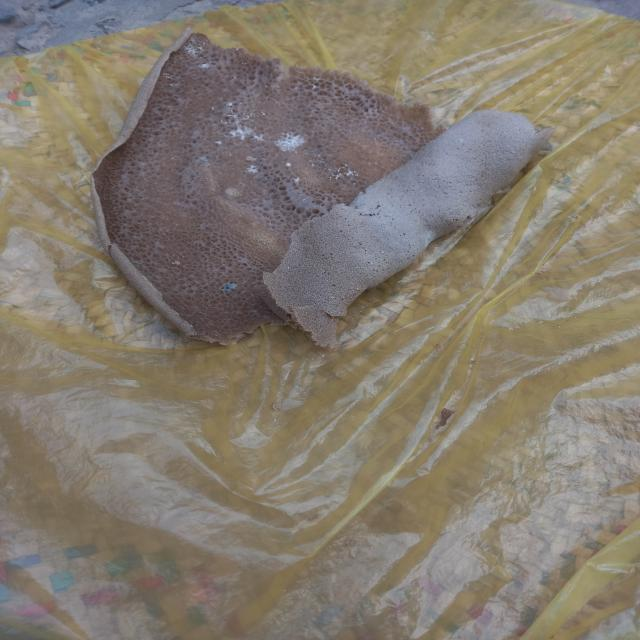injera_mold: (222, 120, 265, 144), (272, 129, 308, 152), (214, 277, 249, 295), (326, 164, 358, 180), (183, 38, 201, 56), (198, 155, 212, 168), (225, 102, 236, 118), (242, 112, 269, 118), (172, 254, 185, 265), (198, 62, 213, 71), (248, 166, 261, 176), (309, 78, 320, 89), (163, 72, 175, 80), (214, 140, 223, 148), (425, 236, 433, 245), (317, 154, 324, 164), (285, 161, 294, 168), (209, 105, 217, 112), (293, 176, 301, 182), (310, 160, 316, 168), (168, 83, 180, 87), (230, 75, 238, 81), (330, 310, 342, 314), (456, 138, 462, 144), (264, 163, 271, 168), (240, 61, 248, 65), (286, 266, 292, 271), (252, 310, 258, 315), (302, 197, 306, 204), (202, 41, 206, 48), (331, 295, 336, 300), (369, 261, 374, 266), (170, 156, 176, 160), (343, 291, 346, 299), (276, 184, 280, 190), (238, 101, 244, 105), (234, 48, 241, 51), (264, 84, 268, 89), (409, 154, 414, 158), (236, 311, 242, 314), (205, 176, 209, 180), (294, 85, 297, 90), (350, 282, 355, 285), (316, 189, 321, 192), (310, 294, 315, 297), (381, 251, 385, 254), (374, 162, 378, 165), (354, 140, 357, 144), (249, 181, 253, 184), (317, 310, 320, 314), (341, 147, 344, 150), (352, 183, 356, 185), (356, 288, 359, 290), (318, 303, 320, 305), (316, 282, 318, 284), (309, 299, 311, 300), (327, 280, 328, 282), (304, 289, 306, 290), (311, 290, 312, 290)
